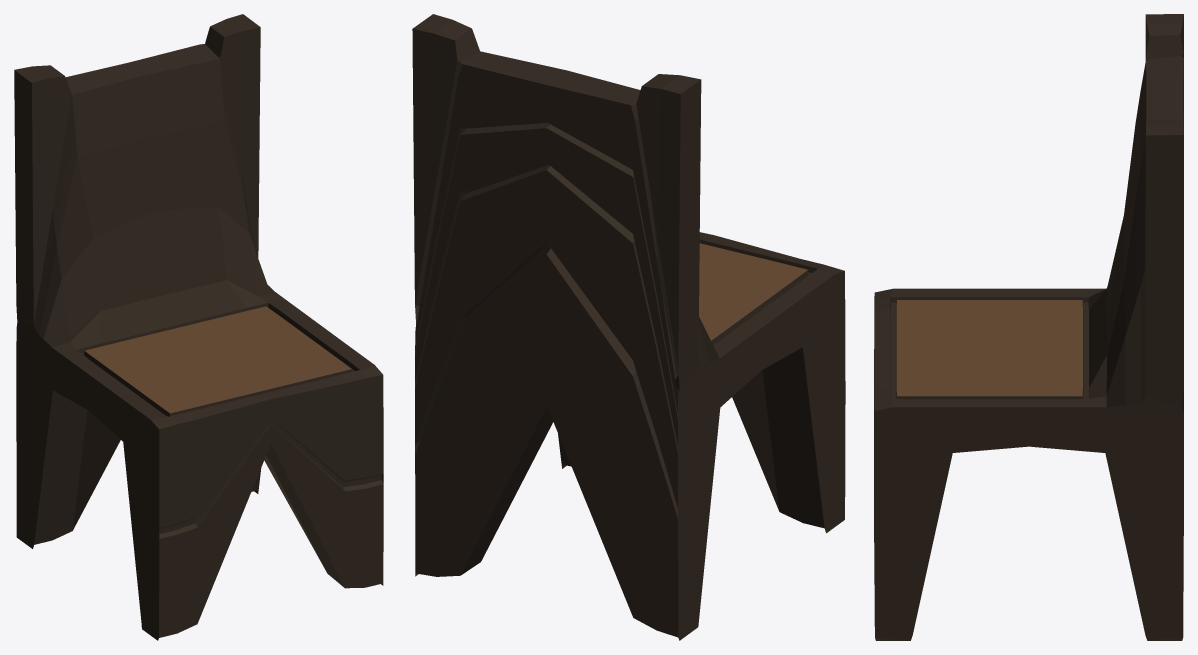
Rendered from chair.glb.
The picture shows the model from 3 angles, left to right: view 1: azimuth 30°, elevation 25°; view 2: azimuth 150°, elevation 25°; view 3: azimuth 270°, elevation 25°; orthographic projection. The views are drawn at different scales.
Parts seen in each view (by area): view 1: Cube; view 2: Cube; view 3: Cube.
Boxes of the visible parts, x1,y1,x2,y2 form: Cube: (14,14,383,640); Cube: (412,14,845,640); Cube: (874,14,1183,640).
Size of the model in its own units: 0.5078 by 0.9915 by 0.5493.
1 material, 1 textured.
